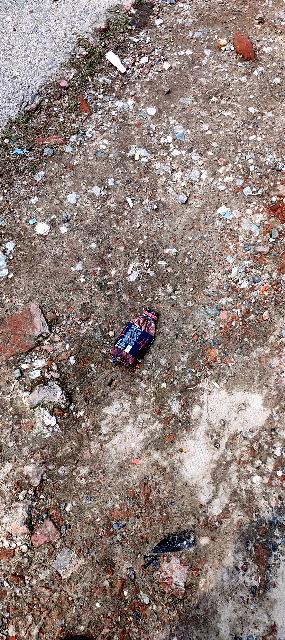bottle: (113, 302, 172, 361)
